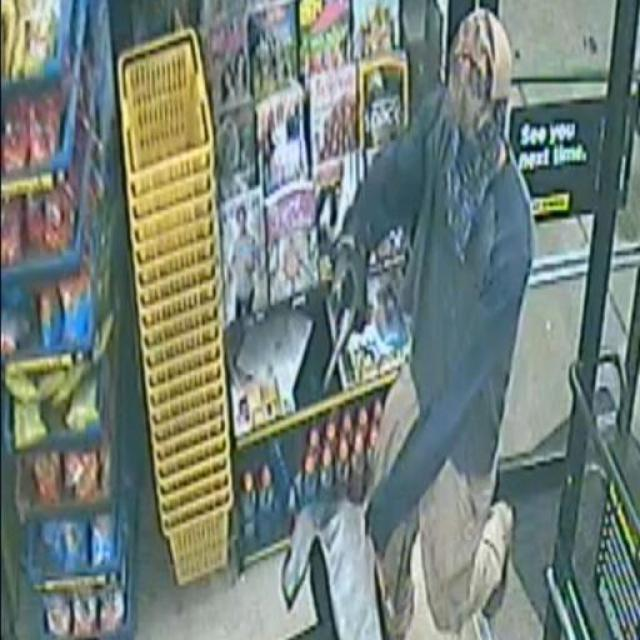pistol: (316, 270, 360, 389)
